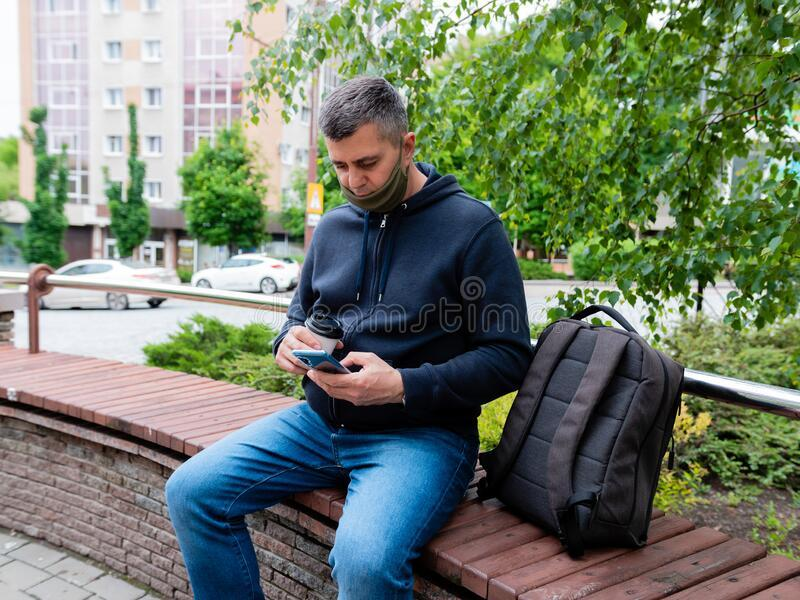Wore Mask Incorrectly: (309, 86, 451, 225)
